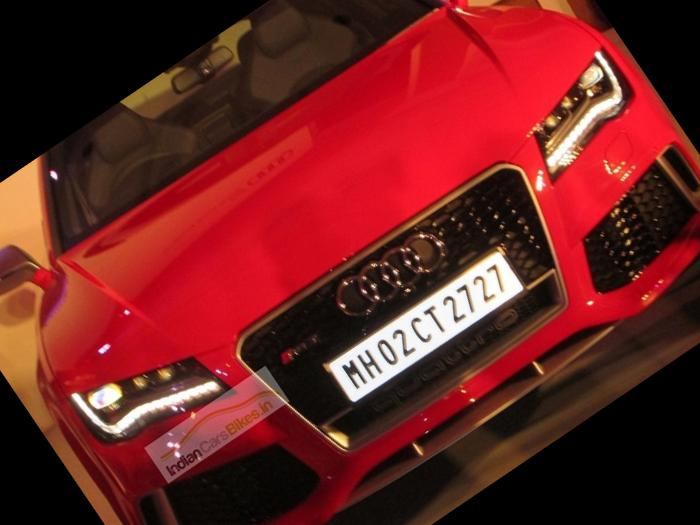plate: (314, 228, 556, 431)
